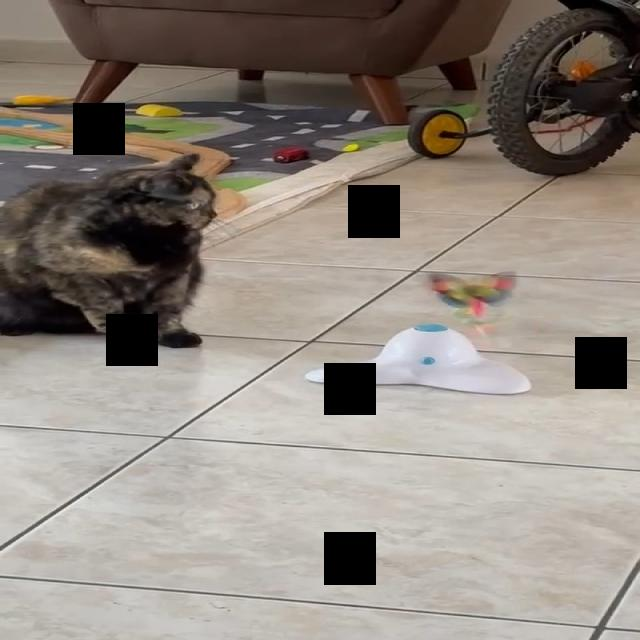authorized: (0, 152, 217, 348)
